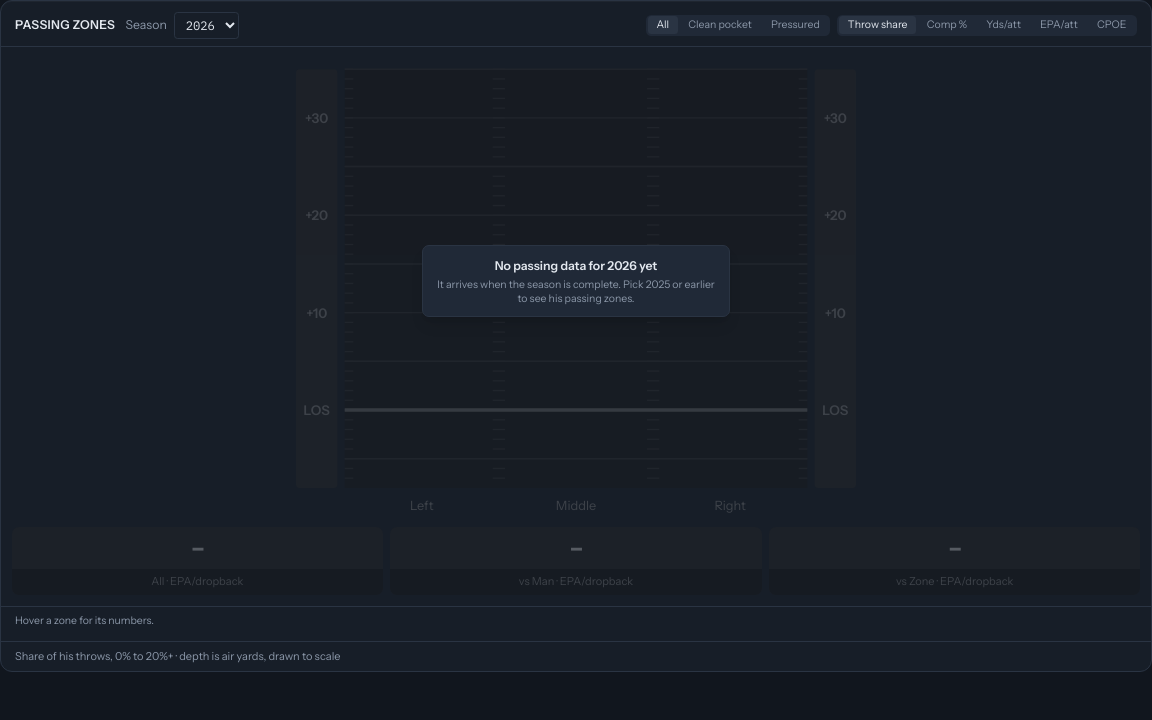
it: PassingZones › opens on the current season greyed out with a note until its data exists; an earlier season shows the chart
This screenshot has width=1152, height=720.
Expected: the element with test id "chart-empty" shows "No passing data for 2026 yet", 495,258 -> 657,273
Select "2025" in the dropdown at coordinates (206, 25), box 174,12 -> 239,38
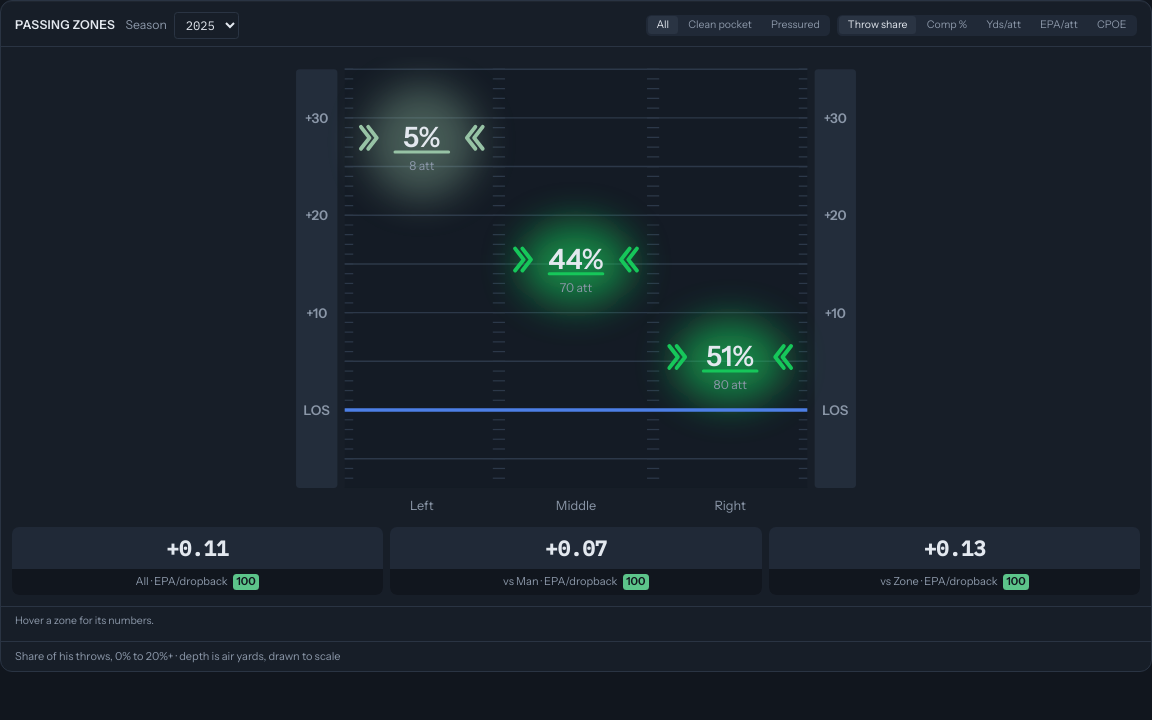
Now the element with test id "chart-empty" is gone
